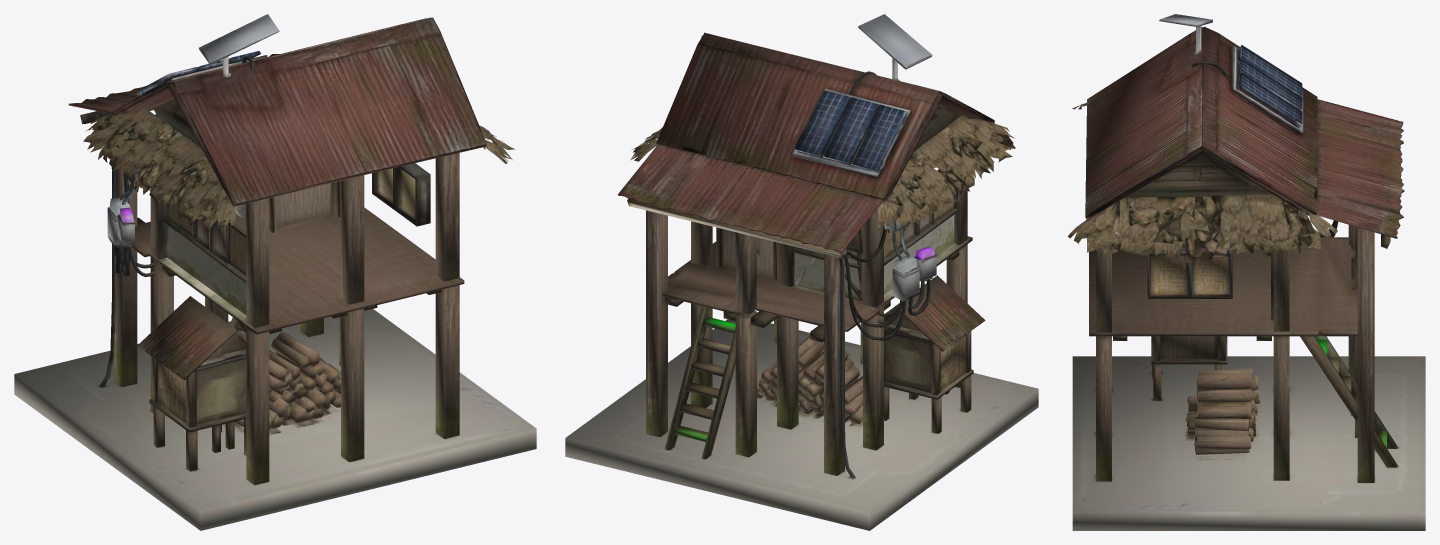
The model's file is shan_stilt_house.glb.
3 renders of one model, left to right at view 1: azimuth 30°, elevation 25°; view 2: azimuth 150°, elevation 25°; view 3: azimuth 270°, elevation 25°, orthographic. The views are drawn at different scales.
Visible parts, largest first — view 1: Body; view 2: Body; view 3: Body.
Part boxes in pixels (x1,y1,x2,y2): Body: [14, 14, 536, 530]; Body: [565, 14, 1038, 530]; Body: [1067, 14, 1425, 530].
Bounding box in the file's own units: 10 × 12.43 × 9.76.
1 material, 1 textured.
